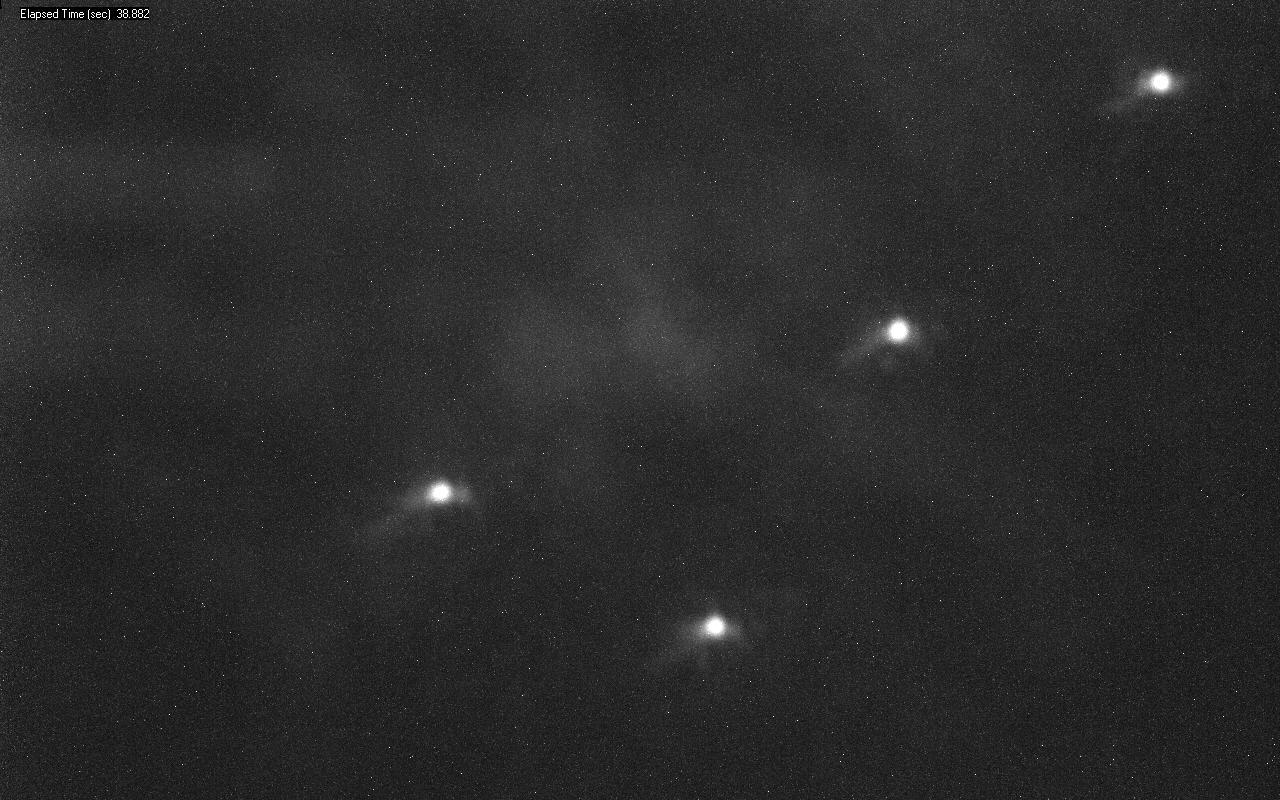Bead: (424, 480, 464, 504), (1142, 71, 1173, 94), (885, 318, 910, 344), (708, 621, 723, 635)
